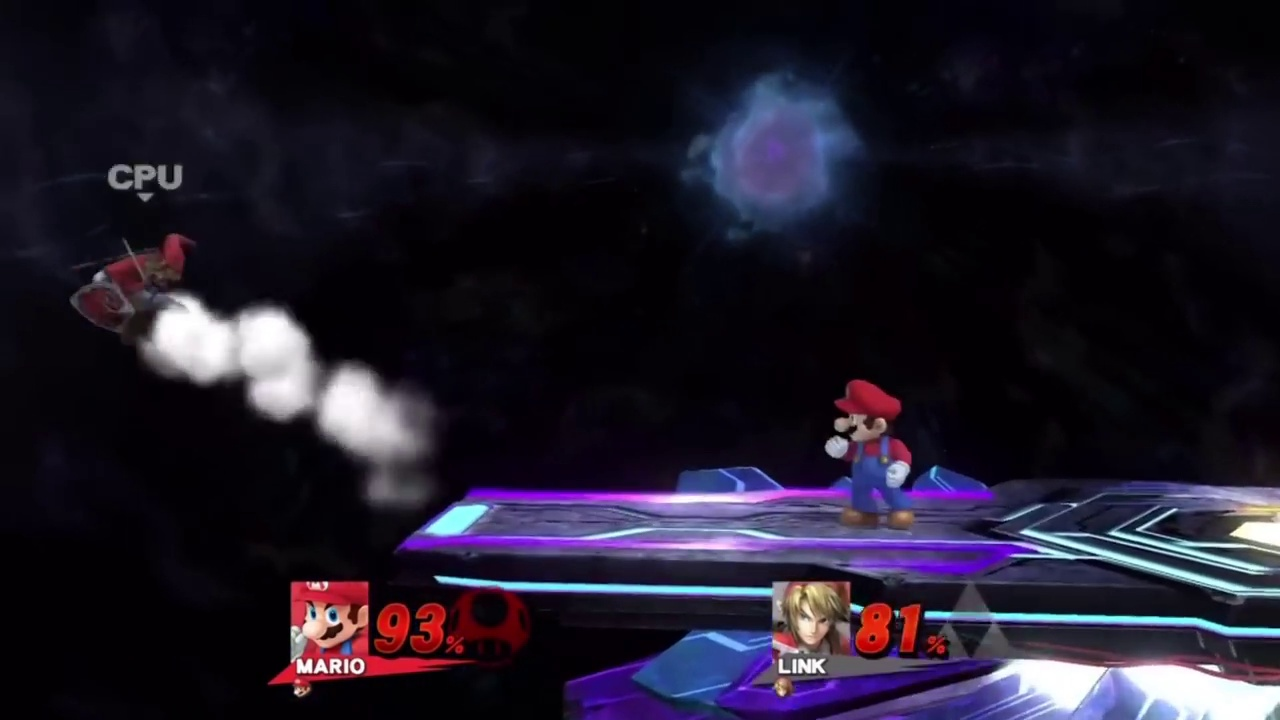Mario: (823, 379, 912, 527)
